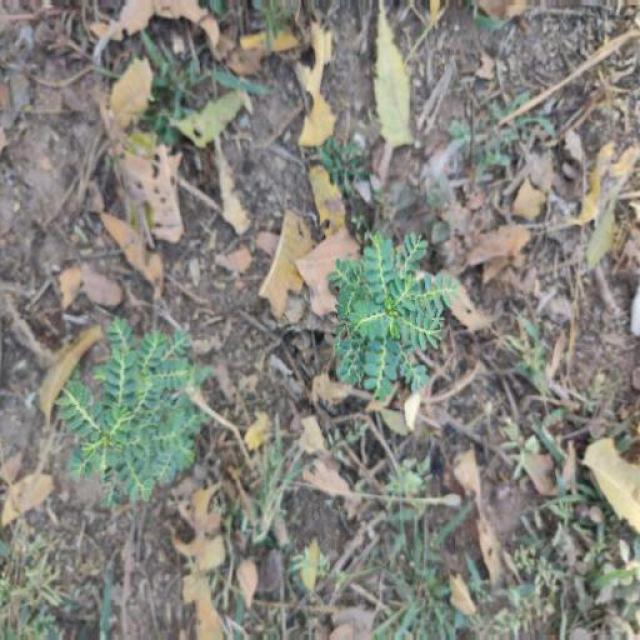weed: (55, 302, 206, 518), (323, 215, 455, 406)
